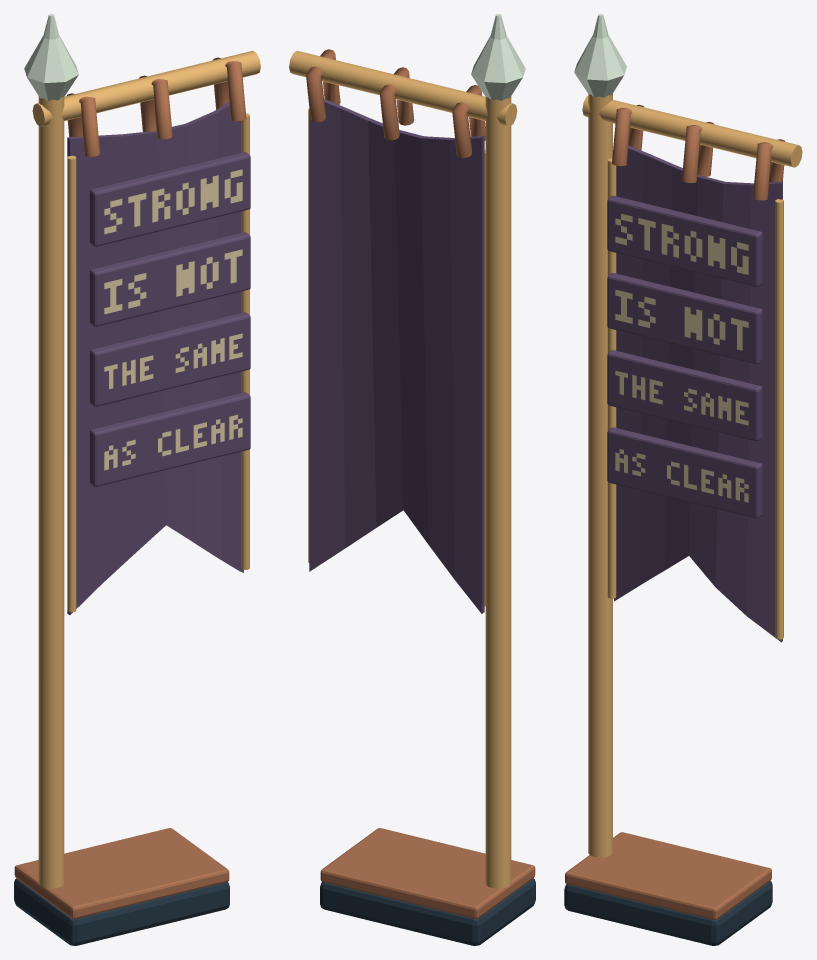
3 views of the same model, side by side, from view 1: azimuth 30°, elevation 25°; view 2: azimuth 150°, elevation 25°; view 3: azimuth 330°, elevation 25° (orthographic). The views are drawn at different scales.
Parts seen in each view (by area): view 1: PR068 enamel and hardware; view 2: PR068 enamel and hardware; view 3: PR068 enamel and hardware.
Boxes of the visible parts, x1,y1,x2,y2 form: PR068 enamel and hardware: (14,14,260,945); PR068 enamel and hardware: (289,14,535,945); PR068 enamel and hardware: (564,14,802,945).
Size of the model in its own units: 0.5765 by 2.2 by 0.2648.
